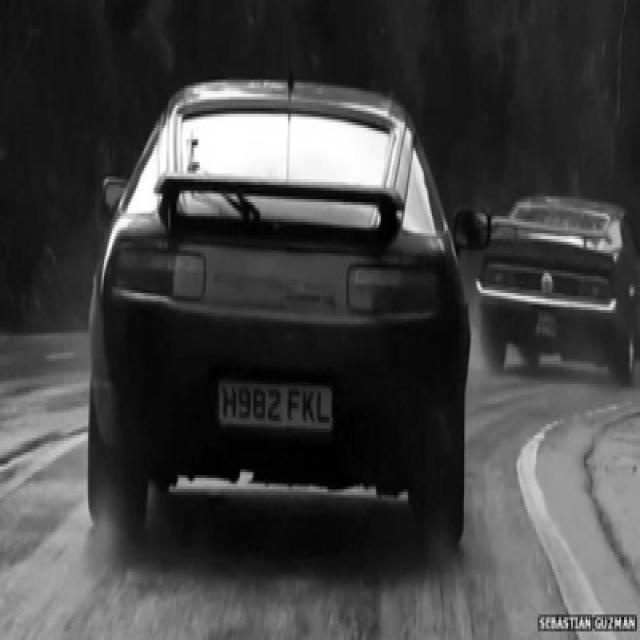licence: (216, 378, 334, 432)
